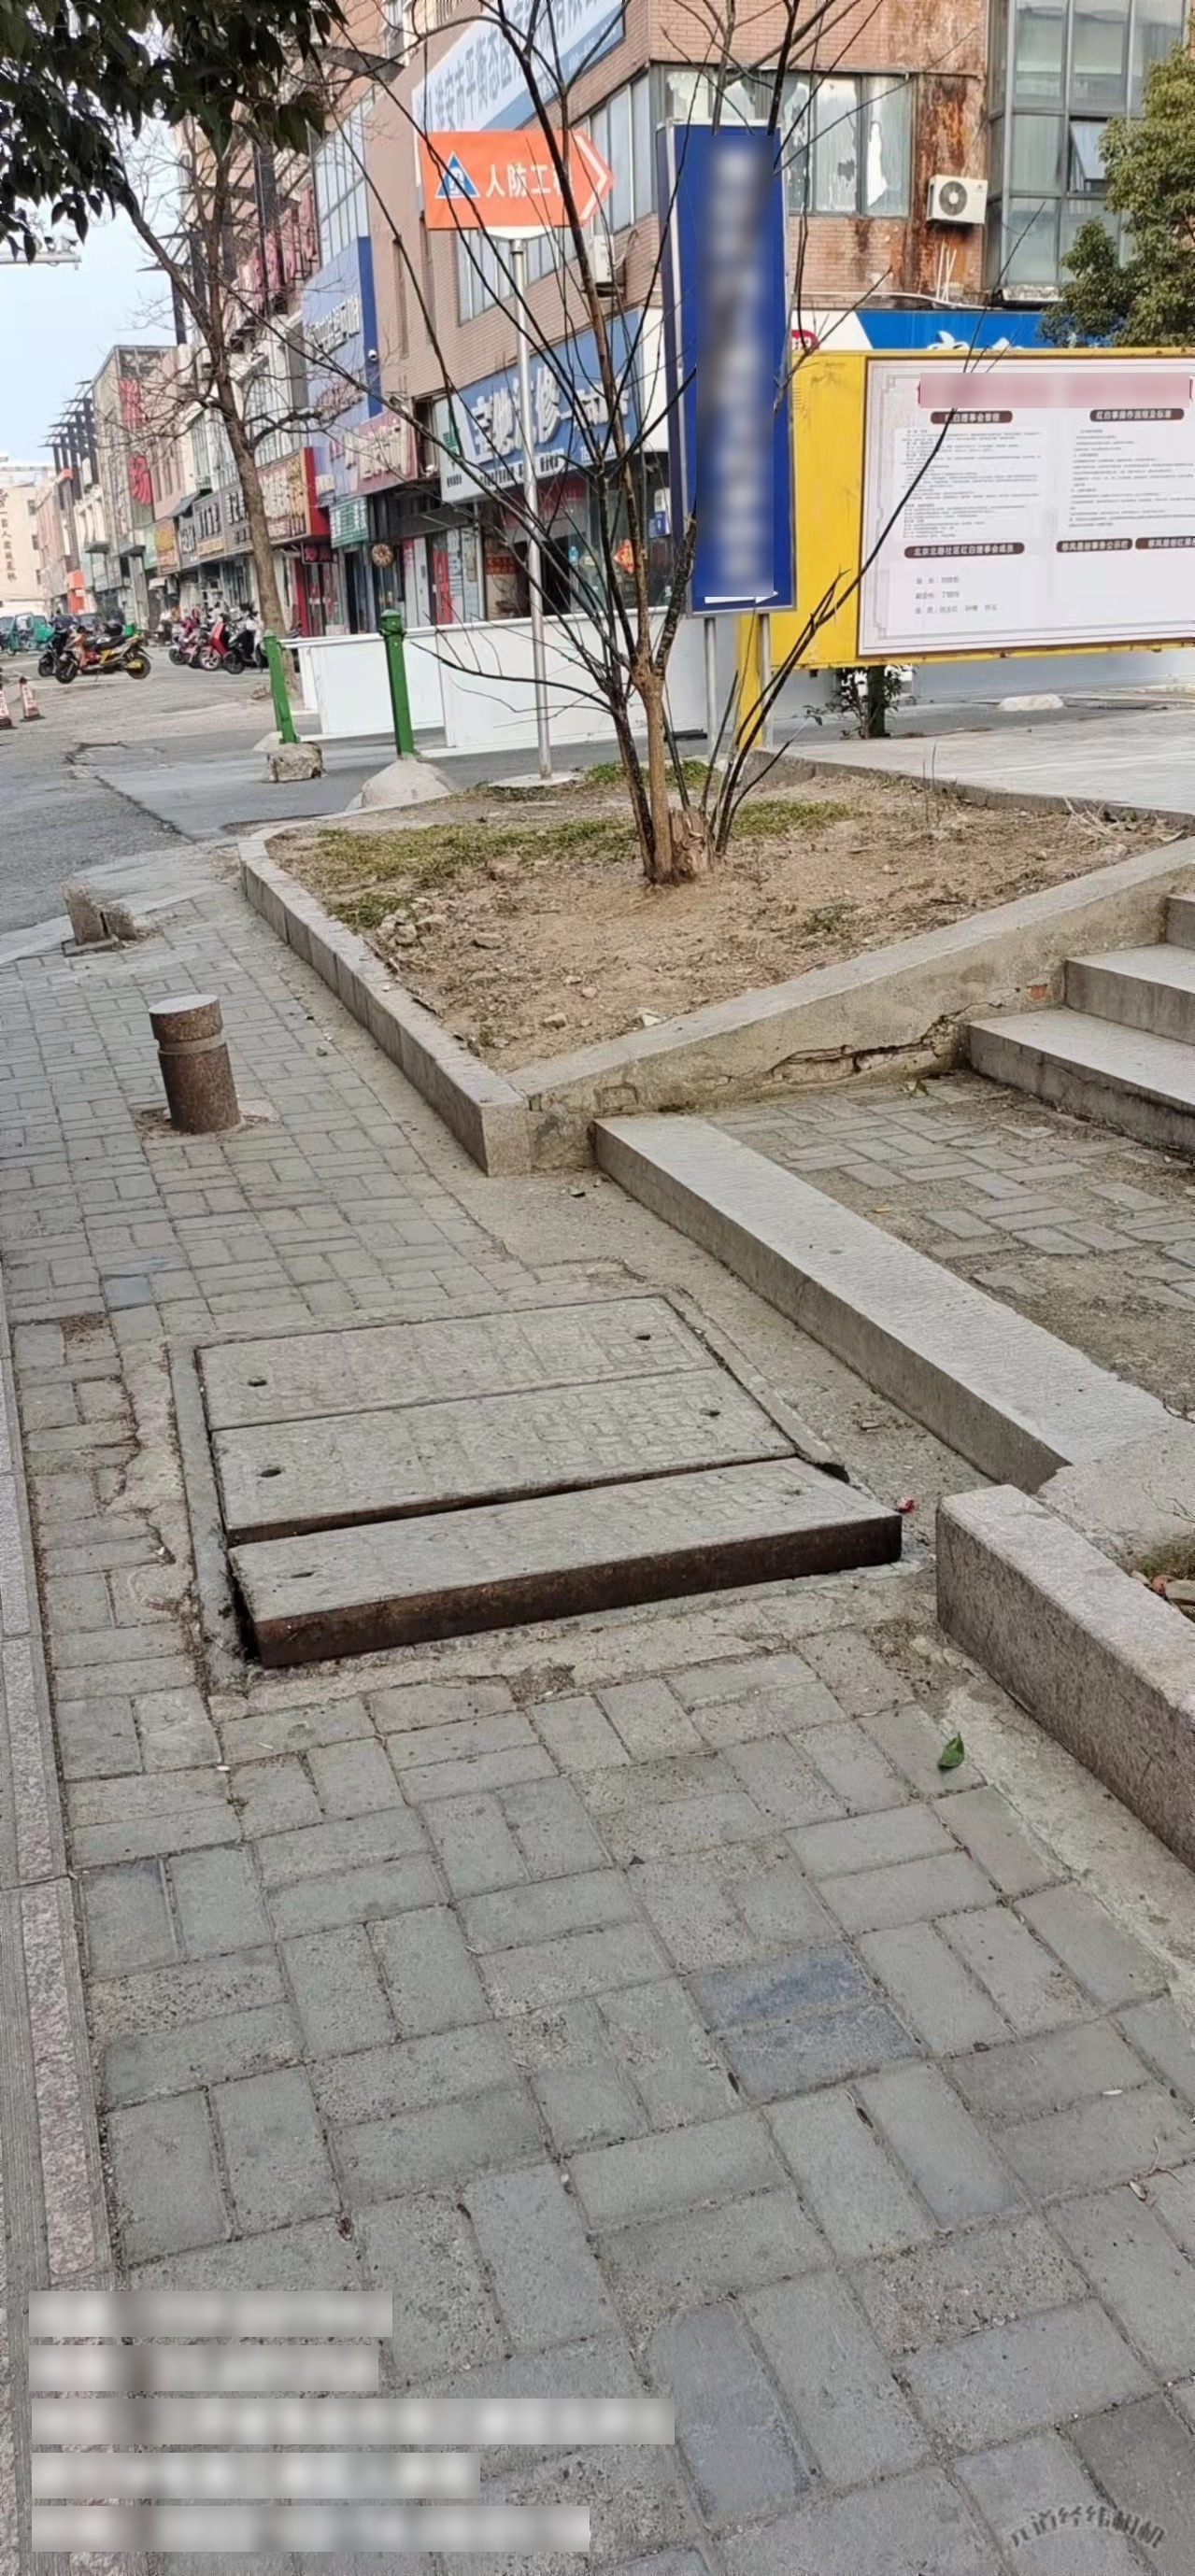uncovered: (168, 1290, 912, 1694)
